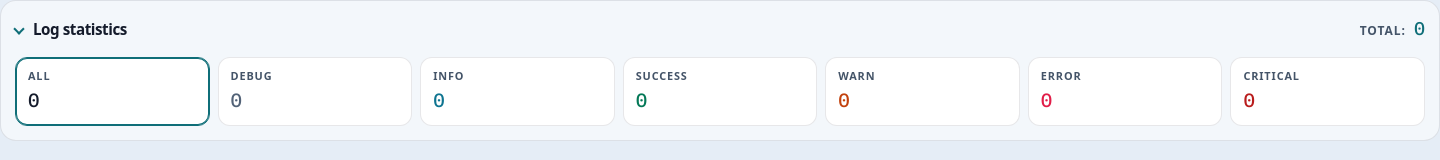
it: StatsPanel › toggles collapsed state
The image size is (1440, 160).
Click the button titled "Collapse stats". click: (71, 29)
box: [15,20,127,38]
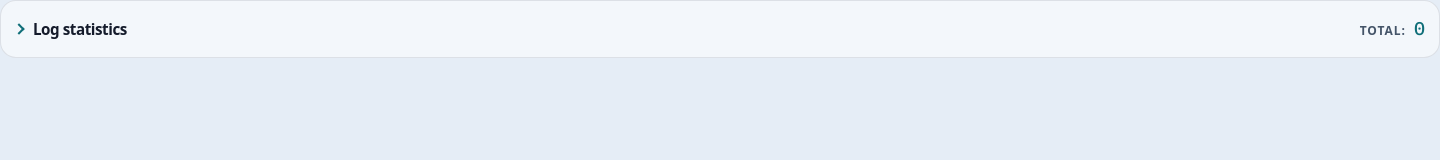
Result: the button "All" is gone
